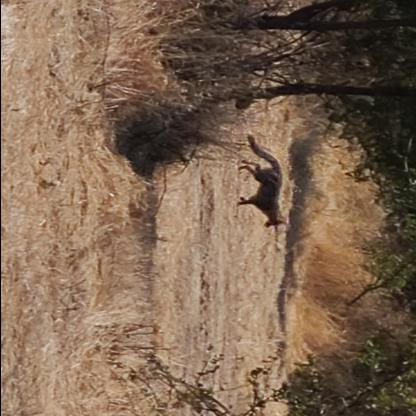zorro: (234, 132, 292, 230)
